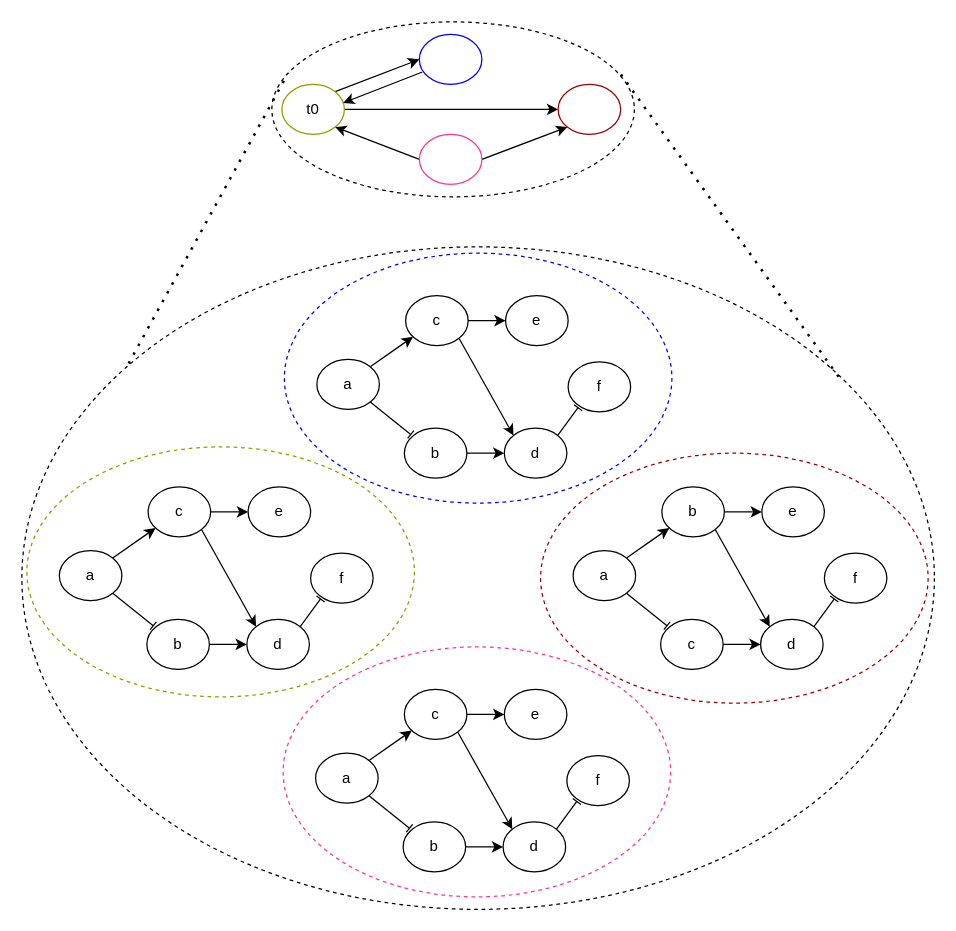
Some shapes in this 956 by 931 pixel diagram are drawn without their labels. The shapes that lost their labels are listed below. From the top down, each one's box as (x1, y1, x2, y2) in pixels, then its label:
(418, 33, 482, 84): t1
(557, 83, 621, 134): t2
(418, 133, 482, 184): t3
